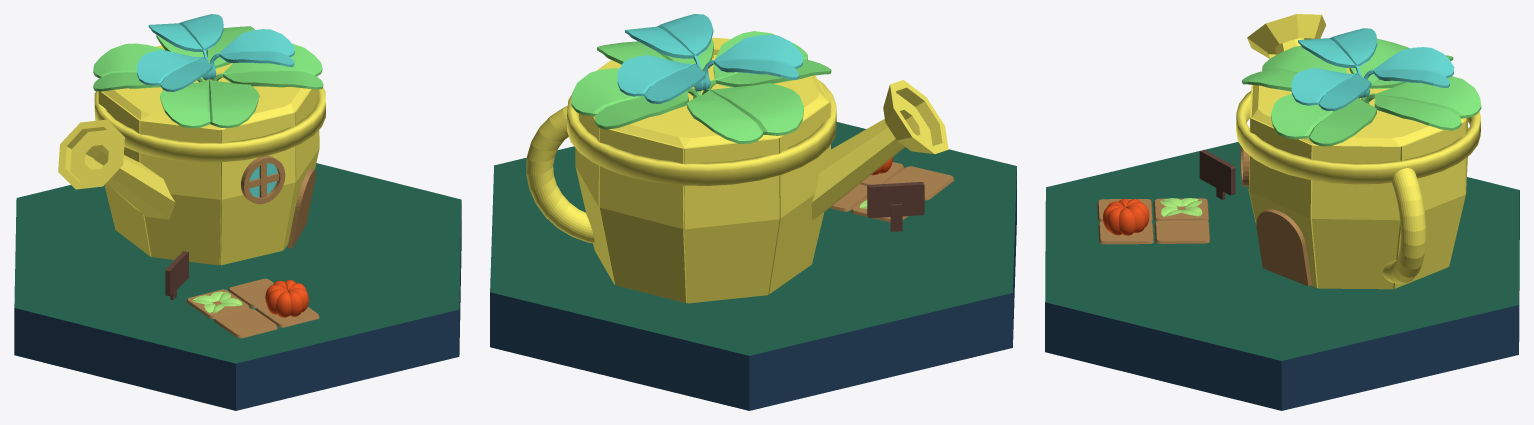
File: Macro farm barn lv1 (3)..fbx
The picture shows the model from 3 angles, left to right: view 1: azimuth 30°, elevation 25°; view 2: azimuth 150°, elevation 25°; view 3: azimuth 270°, elevation 25°; orthographic projection. The views are drawn at different scales.
Parts seen in each view (by area): view 1: Cylinder.154, Cube.020, Cube.047, Plane.008, Cube.046, Cube.019, Cube.045, Plane.004, Plane.015, Plane.010, Plane.009, Plane.016 (+7 smaller); view 2: Cylinder.154, Cube.020, Cube.047, Plane.009, Cube.045, Cube.017, Plane.006, Cube.046, Plane.016, Plane.015, Plane.010, Cube.019 (+4 smaller); view 3: Cylinder.154, Cube.020, Cube.047, Plane.006, Plane.004, Cube.019, Cube.017, Cube.033, Plane.010, Plane.016, Plane.015, Plane.008 (+6 smaller).
Boxes of the visible parts, bbox=[...] form: Cylinder.154: bbox=[14, 163, 461, 410]; Cube.020: bbox=[98, 45, 319, 265]; Cube.047: bbox=[94, 87, 325, 162]; Plane.008: bbox=[160, 79, 259, 128]; Cube.046: bbox=[58, 119, 124, 189]; Cube.019: bbox=[186, 278, 319, 338]; Cube.045: bbox=[93, 148, 175, 219]; Plane.004: bbox=[212, 43, 323, 89]; Plane.015: bbox=[137, 50, 212, 91]; Plane.010: bbox=[210, 29, 294, 79]; Plane.009: bbox=[93, 43, 203, 91]; Plane.016: bbox=[148, 14, 223, 61]; Cylinder.154: bbox=[490, 122, 1016, 410]; Cube.020: bbox=[575, 37, 830, 303]; Cube.047: bbox=[567, 55, 836, 185]; Plane.009: bbox=[687, 83, 803, 143]; Cube.045: bbox=[811, 119, 905, 220]; Cube.017: bbox=[526, 106, 594, 243]; Plane.006: bbox=[571, 68, 699, 129]; Cube.046: bbox=[883, 80, 948, 154]; Plane.016: bbox=[617, 55, 705, 103]; Plane.015: bbox=[702, 34, 803, 90]; Plane.010: bbox=[625, 14, 713, 69]; Cube.019: bbox=[829, 162, 954, 222]; Cylinder.154: bbox=[1045, 142, 1519, 410]; Cube.020: bbox=[1248, 85, 1467, 289]; Cube.047: bbox=[1236, 91, 1480, 184]; Plane.006: bbox=[1364, 76, 1481, 130]; Plane.004: bbox=[1271, 94, 1376, 146]; Cube.019: bbox=[1097, 198, 1209, 244]; Cube.017: bbox=[1383, 168, 1426, 284]; Cube.033: bbox=[1256, 209, 1311, 286]; Plane.010: bbox=[1291, 67, 1371, 111]; Plane.016: bbox=[1363, 47, 1454, 97]; Plane.015: bbox=[1298, 28, 1377, 76]; Plane.008: bbox=[1242, 46, 1347, 91].
Bounding box in the file's own units: 197 × 96.06 × 172.
